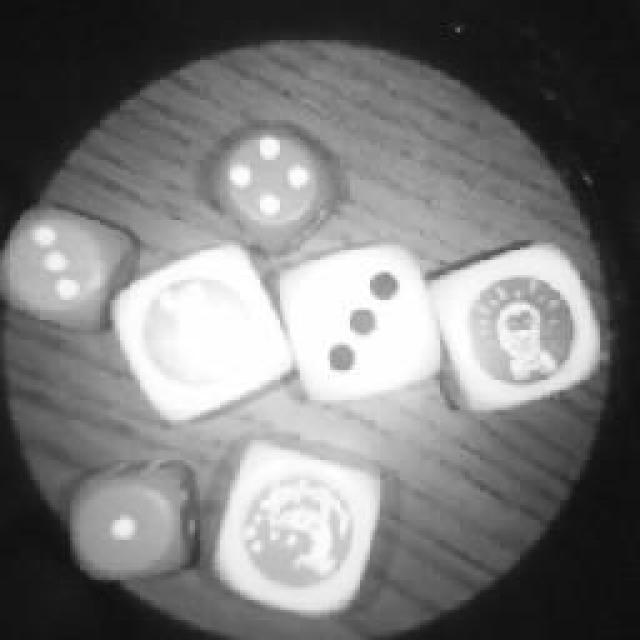dice_1: (60, 452, 202, 590)
dice_3: (267, 235, 445, 410), (0, 195, 140, 337)
dice_4: (195, 112, 347, 258)
